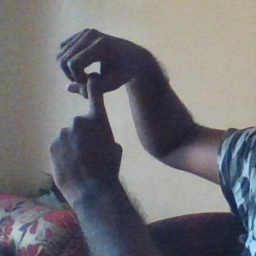Q: (43, 26, 150, 178)
